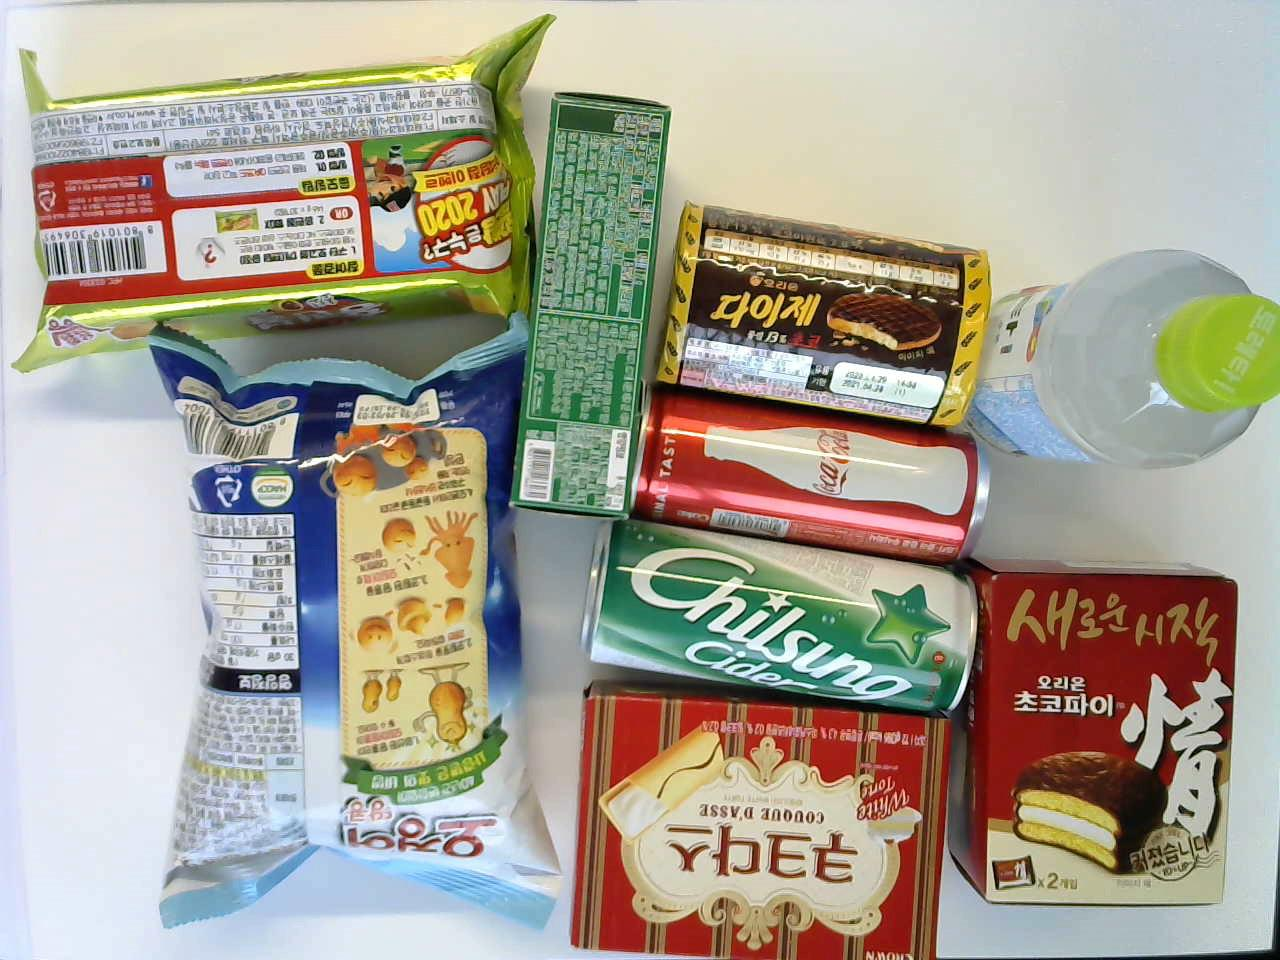chocopie: (947, 560, 1237, 912)
cidar: (577, 519, 979, 710)
coke: (626, 381, 991, 562)
couque_coffee: (512, 86, 684, 518)
couque_white: (577, 685, 939, 960)
diget_choco: (654, 198, 994, 422)
homerunball: (11, 14, 521, 330)
squid_peanut: (157, 312, 520, 931)
toreta: (965, 249, 1278, 494)
